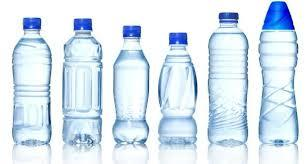Plastic bottle: (256, 0, 300, 149), (204, 10, 250, 150), (9, 14, 56, 148), (60, 13, 104, 152), (108, 15, 152, 149), (157, 25, 198, 148)
